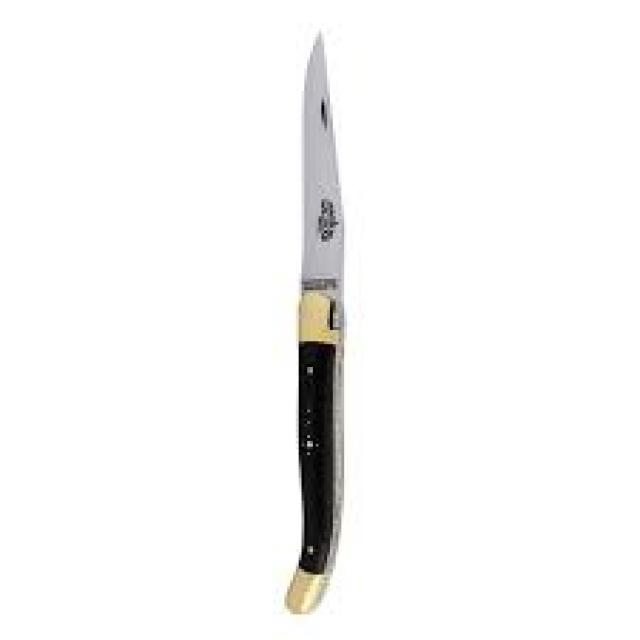knife: (285, 35, 350, 622)
